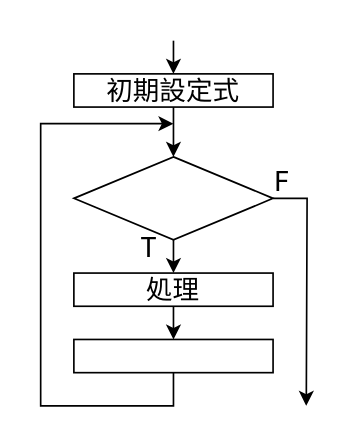
Image size: 350x448. Some labels were removed from this diagram. The shapes that lost their labels are listed below. From the top down, each one's centre as x and y in pixels, then its label:
[172,197]: 継続条件式
[172,355]: 再設定式
